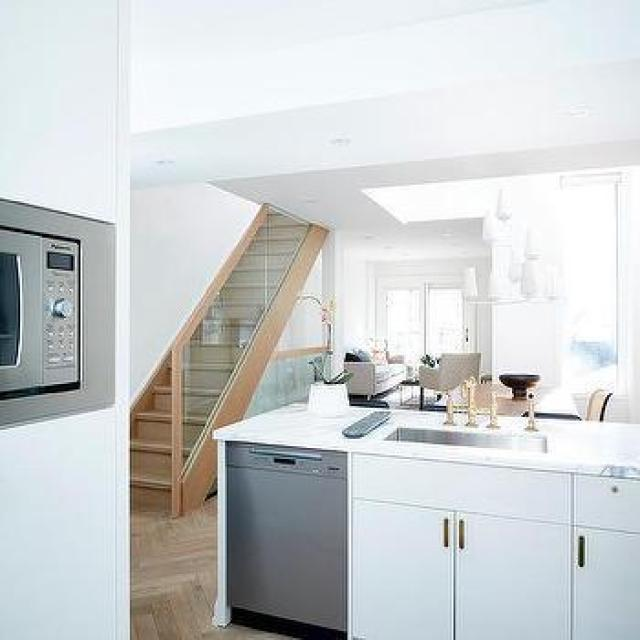dishwasher: (200, 425, 370, 640)
